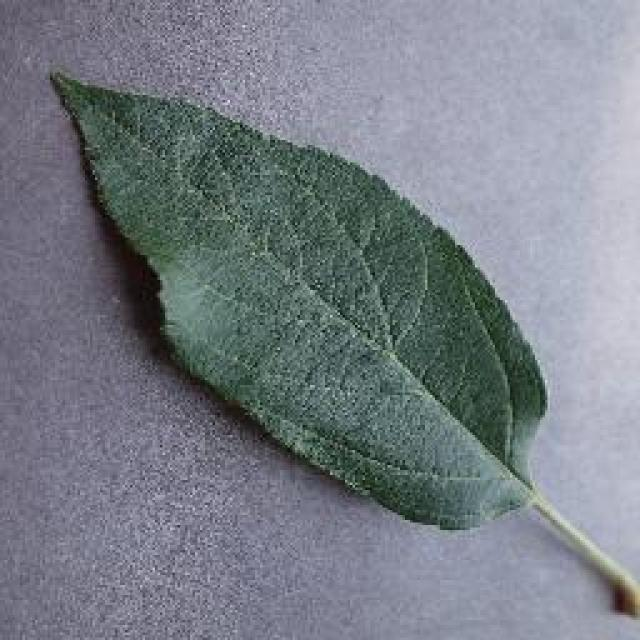apple healthy: (45, 63, 637, 625)
